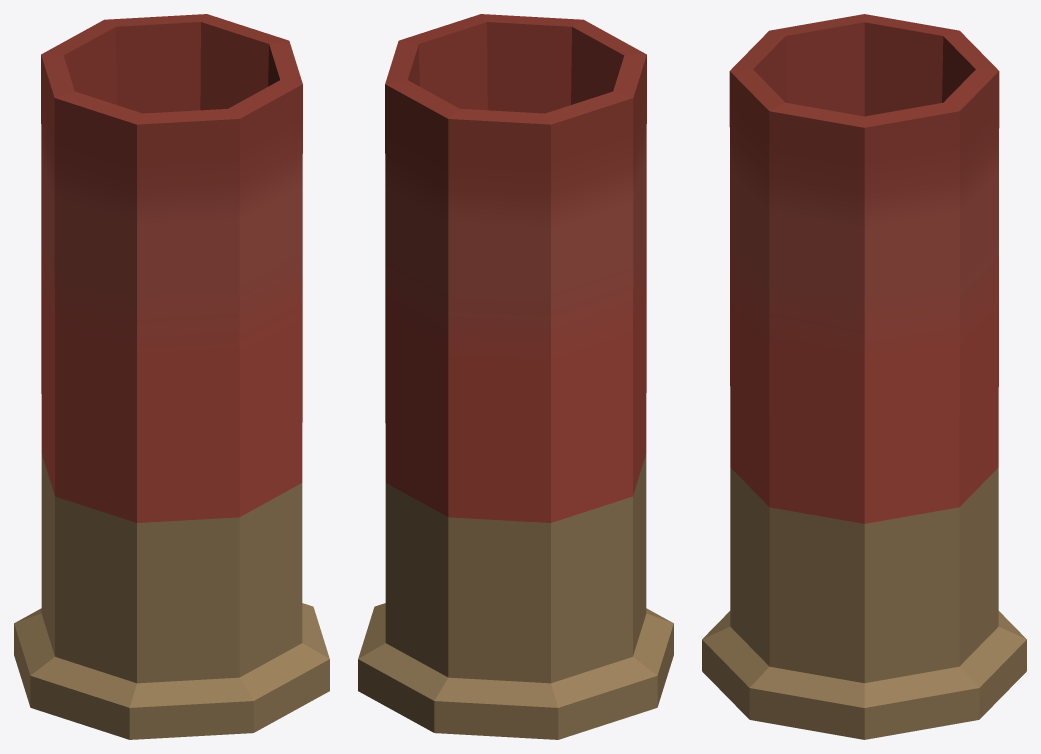
File: SM_Wep_Ammo_Shell_03.fbx
3 renders of one model, left to right at view 1: azimuth 30°, elevation 25°; view 2: azimuth 150°, elevation 25°; view 3: azimuth 270°, elevation 25°, orthographic.
Parts seen in each view (by area): view 1: SM_Wep_Ammo_Shell_03; view 2: SM_Wep_Ammo_Shell_03; view 3: SM_Wep_Ammo_Shell_03.
Boxes of the visible parts, box(x1,y1,x2,y2) form: SM_Wep_Ammo_Shell_03: box(14, 14, 329, 739); SM_Wep_Ammo_Shell_03: box(358, 14, 673, 739); SM_Wep_Ammo_Shell_03: box(702, 14, 1026, 739).
Bounding box in the file's own units: 4.08 × 8.34 × 4.08.
